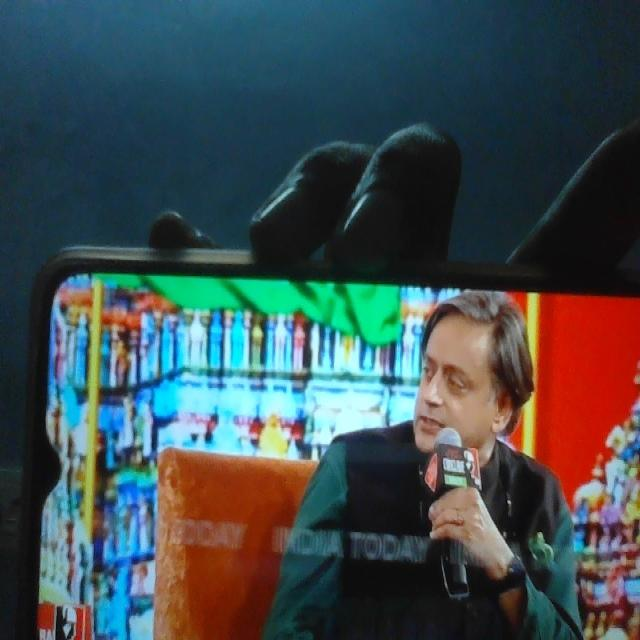fake: (394, 276, 514, 503)
